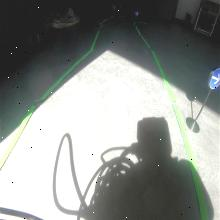right: (207, 66, 220, 90)
